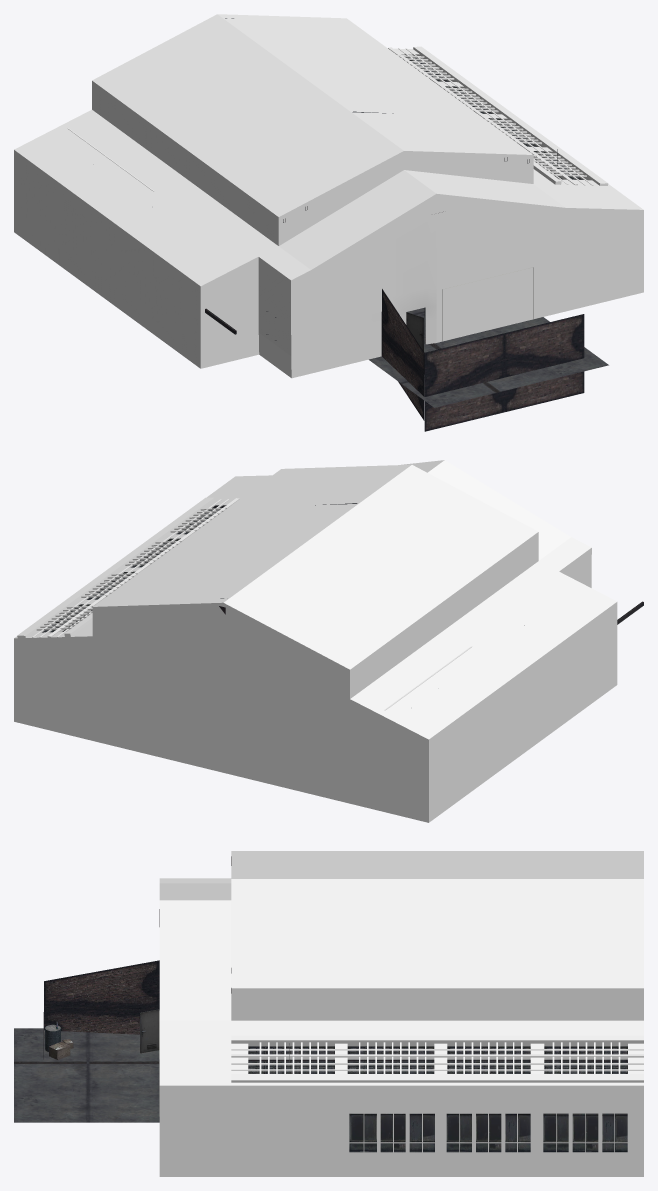
File: garage.glb
3 renders of one model, top to bottom at view 1: azimuth 30°, elevation 25°; view 2: azimuth 150°, elevation 25°; view 3: azimuth 270°, elevation 25°, orthographic. The views are drawn at different scales.
Visible parts, largest first — view 1: MergeGroup_1 (×3); view 2: MergeGroup_1 (×2); view 3: MergeGroup_1 (×5).
Part boxes in pixels (x1=…): MergeGroup_1 (×3): x1=14, y1=14, x2=643, y2=431; MergeGroup_1 (×2): x1=14, y1=460, x2=617, y2=822; MergeGroup_1 (×5): x1=14, y1=851, x2=643, y2=1176.
Size of the model in its own units: 19.7 by 9.31 by 23.69.
8 materials, 7 textured.
